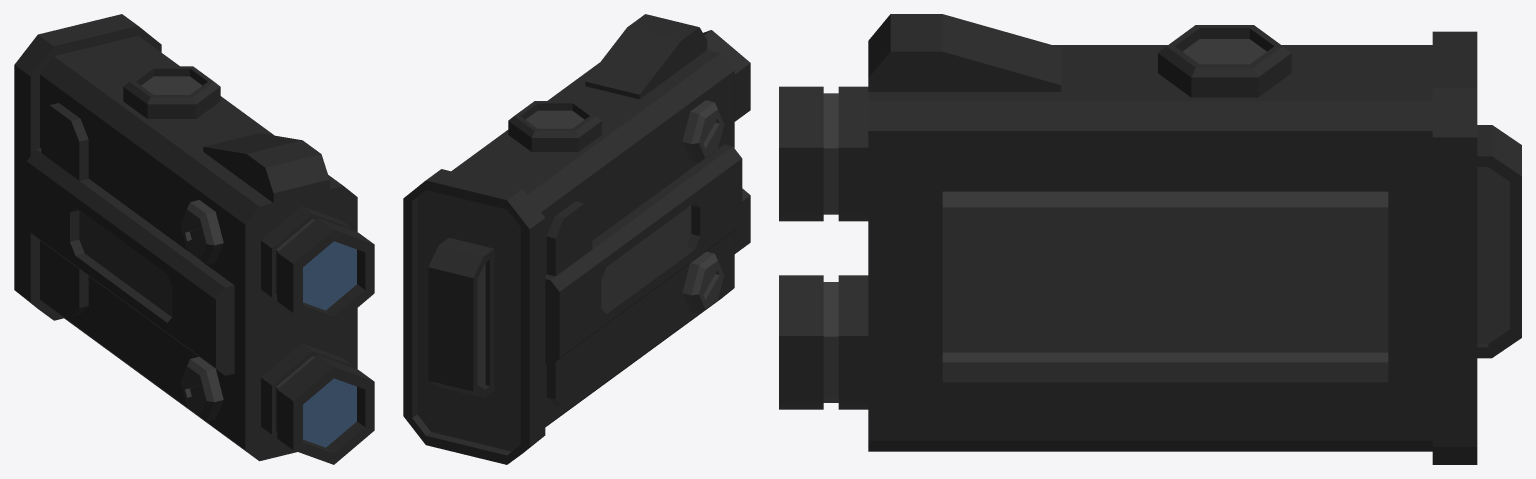
The model's file is Laser_D_Right.fbx.
3 views of the same model, side by side, from view 1: azimuth 30°, elevation 25°; view 2: azimuth 150°, elevation 25°; view 3: azimuth 270°, elevation 25° (orthographic). The views are drawn at different scales.
Visible parts, largest first — view 1: Laser_D_Right; view 2: Laser_D_Right; view 3: Laser_D_Right.
Part boxes in pixels (bbox=[...]): Laser_D_Right: bbox=[14, 14, 374, 464]; Laser_D_Right: bbox=[403, 14, 750, 464]; Laser_D_Right: bbox=[779, 14, 1521, 464].
Size of the model in its own units: 0.0412 by 0.075 by 0.125.
